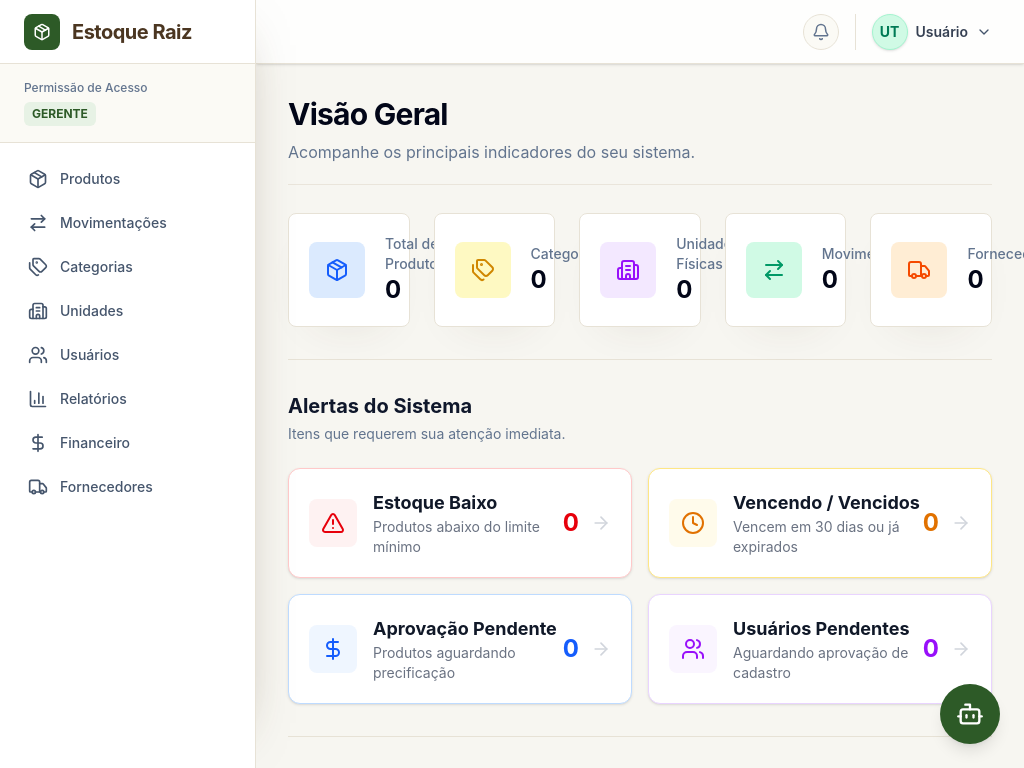
Dashboard e Controle de Acesso (RBAC) › Modal de Perfil › Deve fechar o modal ao clicar no botão X
What coordinates should you click on to do the following:
click the button with test id "menu-usuario-btn"
I would click on:
 (933, 32)
Its box is [872,14,993,50].
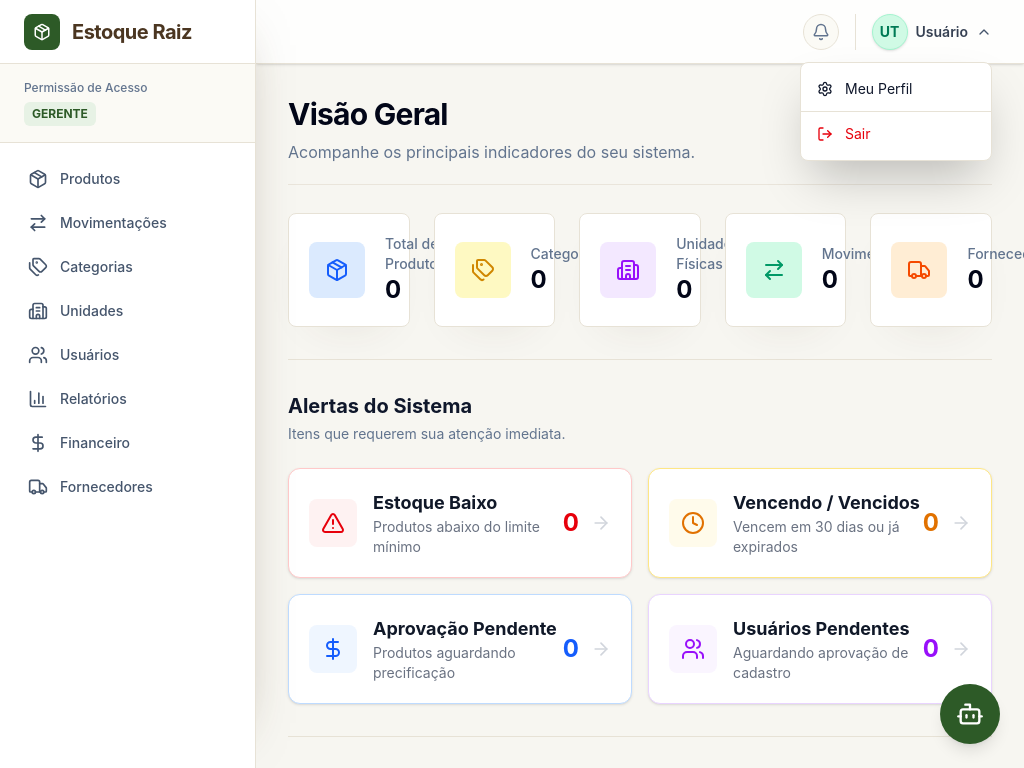
What coordinates should you click on to do the following:
click the button "Meu Perfil"
I would click on:
 (896, 89)
Its box is [801,71,991,107].
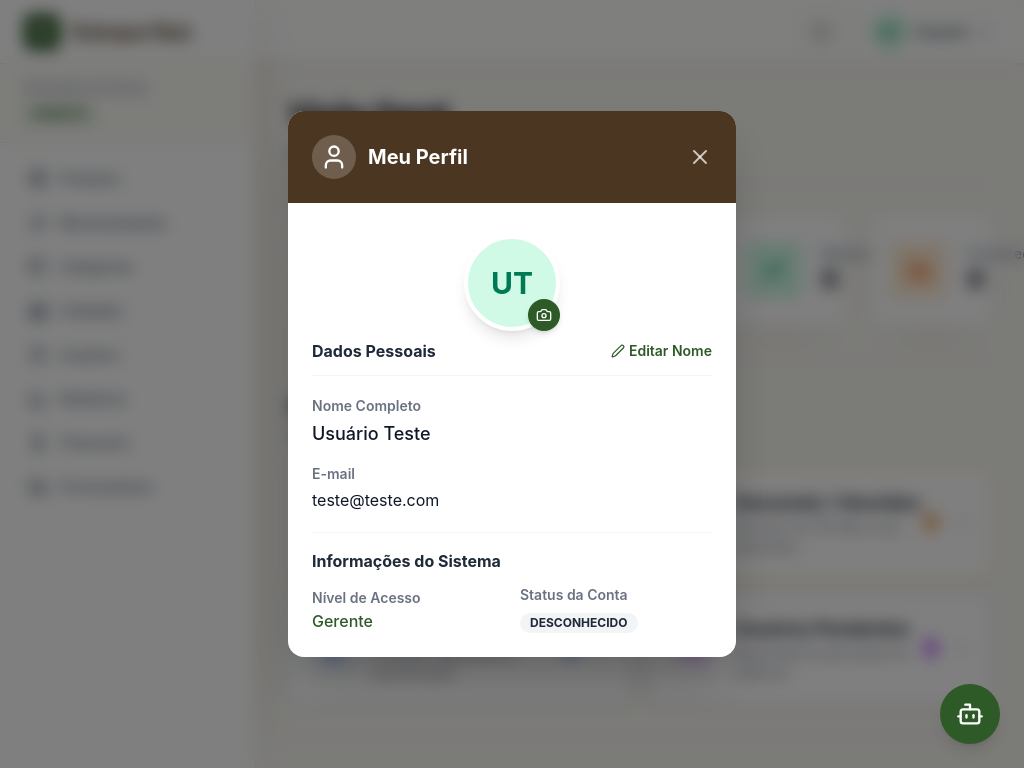
Result: the heading "Dados Pessoais" is shown at [312,339,436,363]
What coordinates should you click on to do the following:
click the button with test id "btn-fechar-modal"
I would click on:
 (700, 157)
Its box is [688,145,712,169].
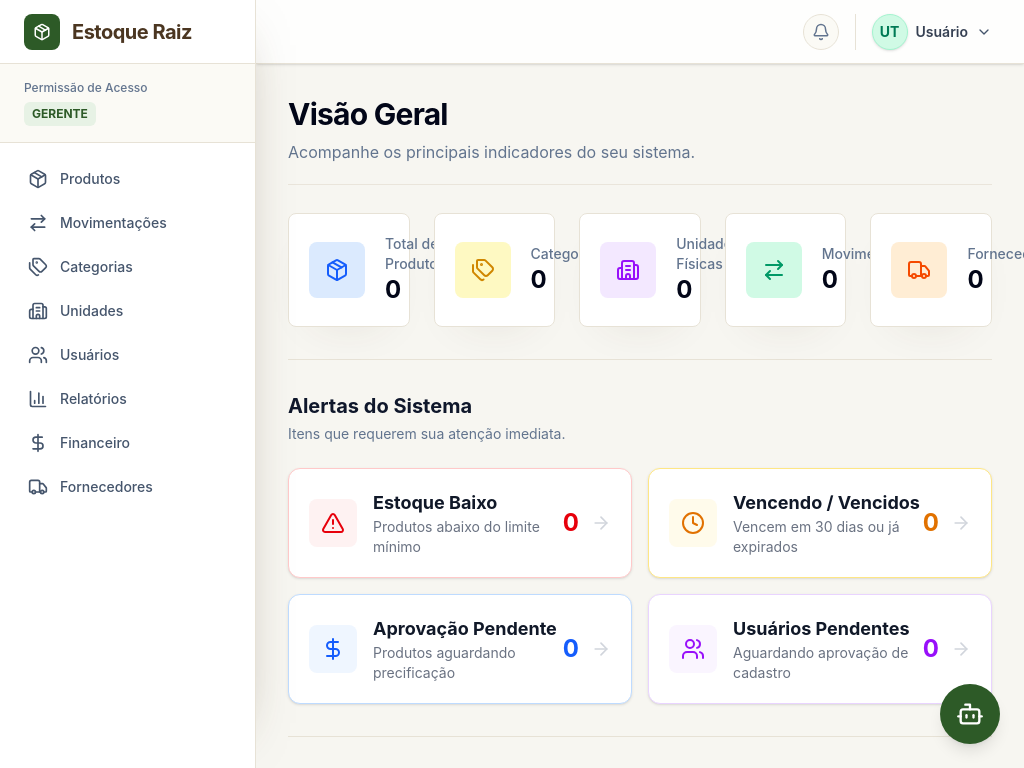
Result: the heading "Dados Pessoais" is gone
